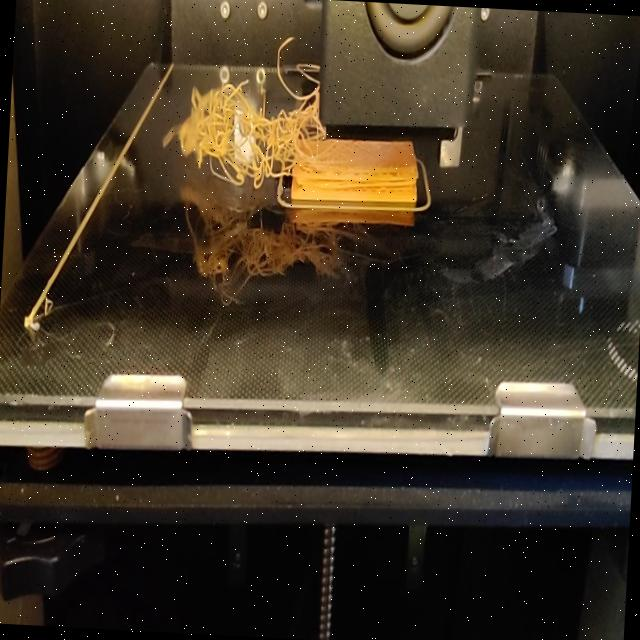spaghetti: (204, 34, 320, 202)
